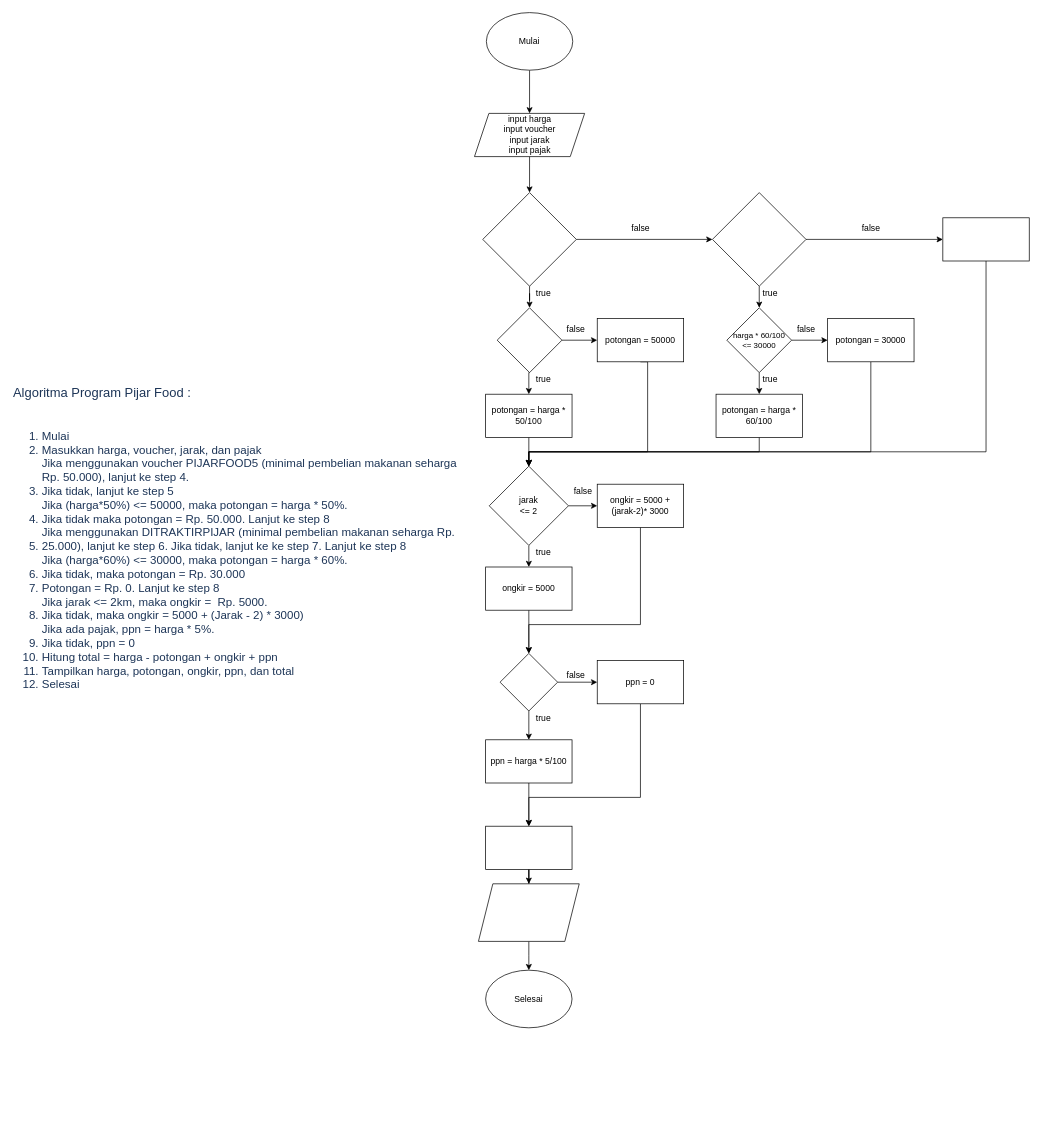
The diagram is 1042 pixels wide and 1140 high, and some of its shapes have lost their labels. Each missing label, with the centre of its shape:
harga * 50/100 <= 50000: point (529, 340)
output harga output potongan output ongkir output ppn output total: point (528, 912)
pajak: point (528, 682)
potongan = 0: point (985, 239)
total = harga - potongan + ongkir + ppn: point (528, 847)
voucher === 'DITRAKTIRPIJAR' && harga >= 25000: point (759, 239)
voucher === PIJARFOOD5' && harga >= 50000: point (529, 239)
